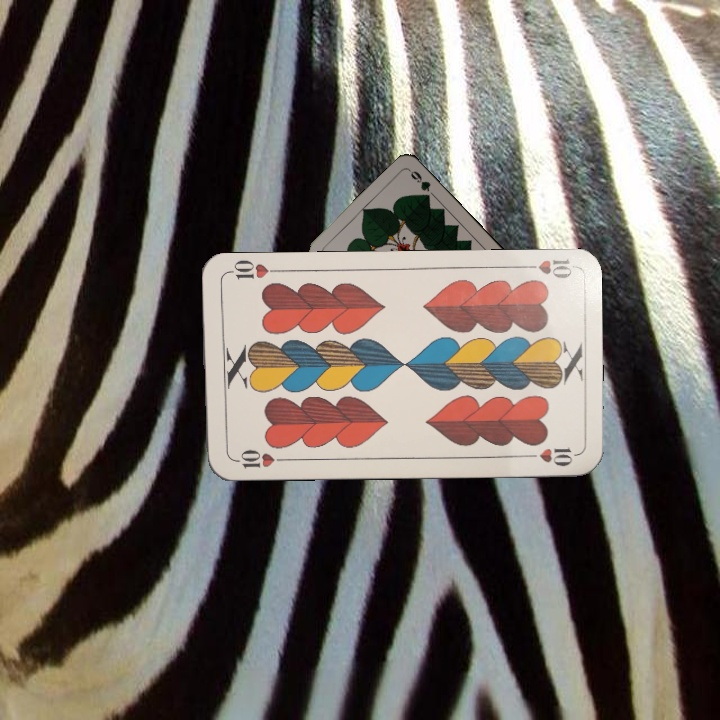H10: (229, 445, 288, 470), (516, 256, 574, 281)
